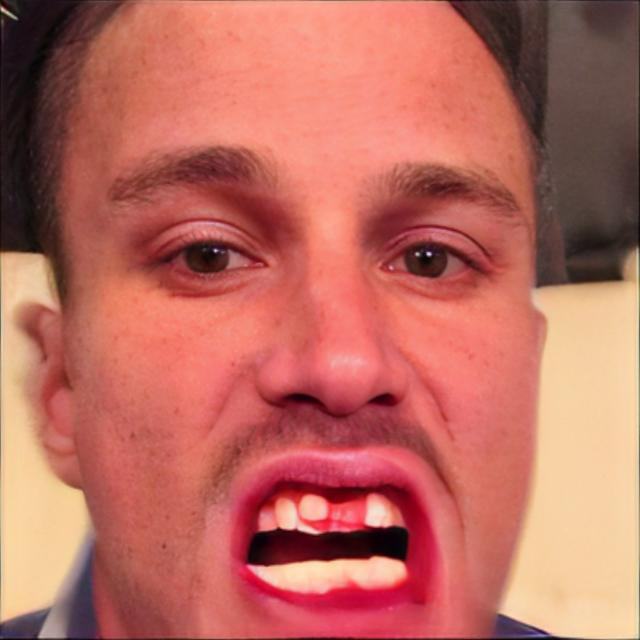disgust: (62, 0, 544, 640)
